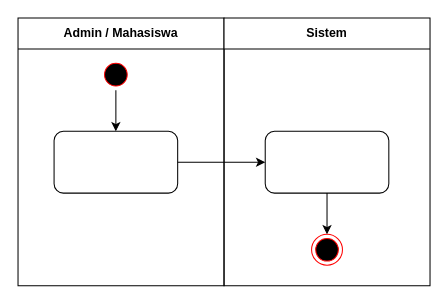
Some shapes in this 448 by 304 pixel diagram are drawn without their labels. Each missing label, with the centre of its shape:
Menampilkan Panel Settings: the point at 326,161
Menekan Tombol Settings: the point at 115,161
